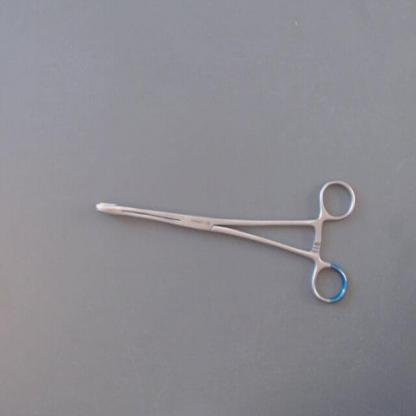Sponge Forceps: (87, 172, 362, 314)
